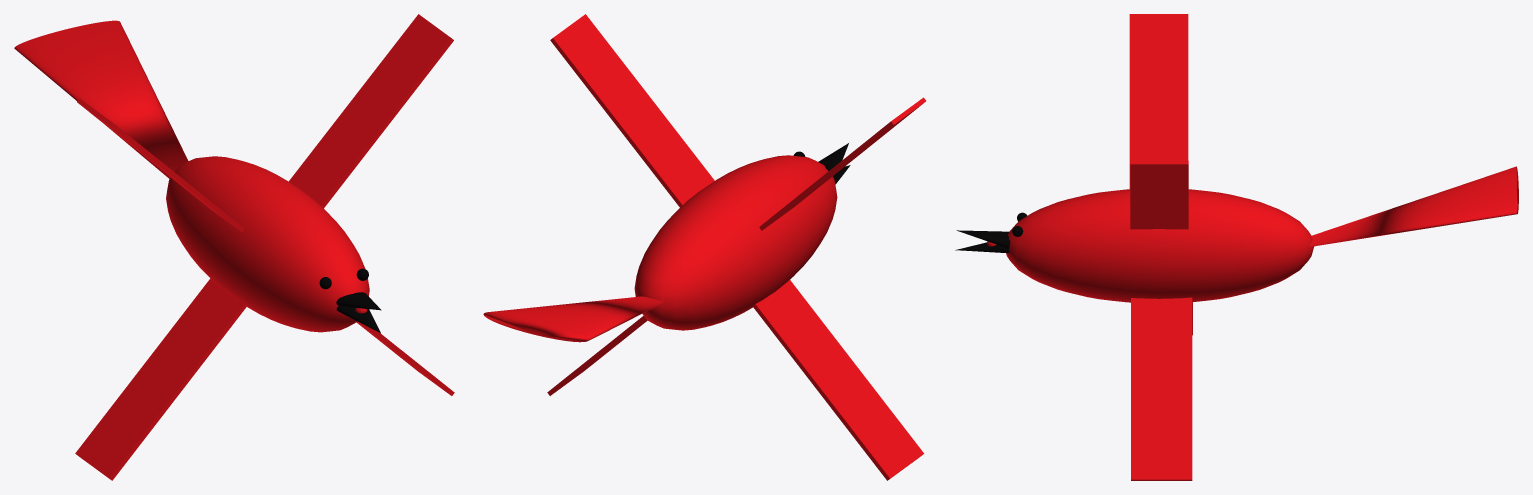
Rendered from bird.fbx.
The picture shows the model from 3 angles, left to right: view 1: azimuth 30°, elevation 25°; view 2: azimuth 150°, elevation 25°; view 3: azimuth 270°, elevation 25°; orthographic projection. The views are drawn at different scales.
Visible parts, largest first — view 1: Sphere, Cube.001, Cube, Cone.001; view 2: Sphere, Cube.001, Cube; view 3: Sphere, Cube, Cube.001, Cone.001.
Part boxes in pixels (x1,y1,x2,y2): Sphere: [14, 20, 369, 332]; Cube.001: [75, 278, 454, 480]; Cube: [77, 14, 453, 232]; Cone.001: [336, 292, 381, 333]; Sphere: [483, 155, 837, 342]; Cube.001: [547, 280, 924, 480]; Cube: [550, 14, 925, 230]; Sphere: [1006, 166, 1518, 302]; Cube: [1129, 14, 1188, 229]; Cube.001: [1131, 297, 1192, 480]; Cone.001: [955, 230, 1010, 253].
Bounding box in the file's own units: 652 × 650 × 1031.
